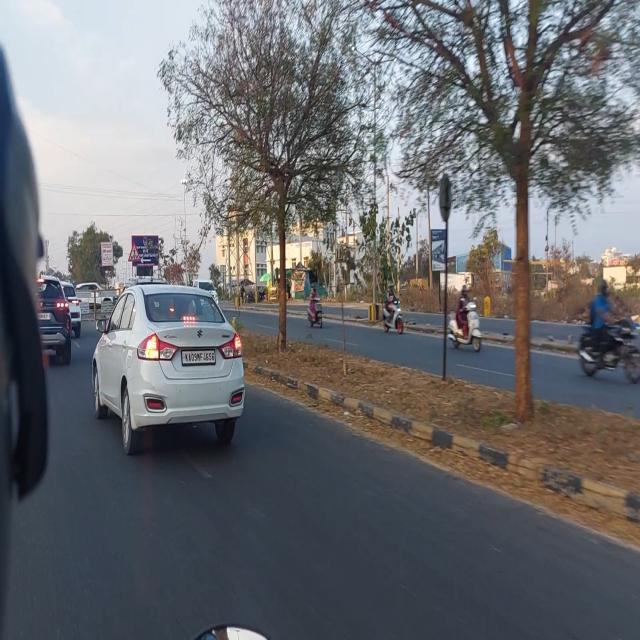bien_cam: (128, 241, 142, 263)
